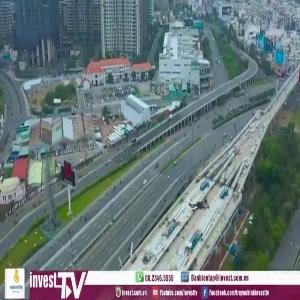drone: (173, 178, 227, 232)
